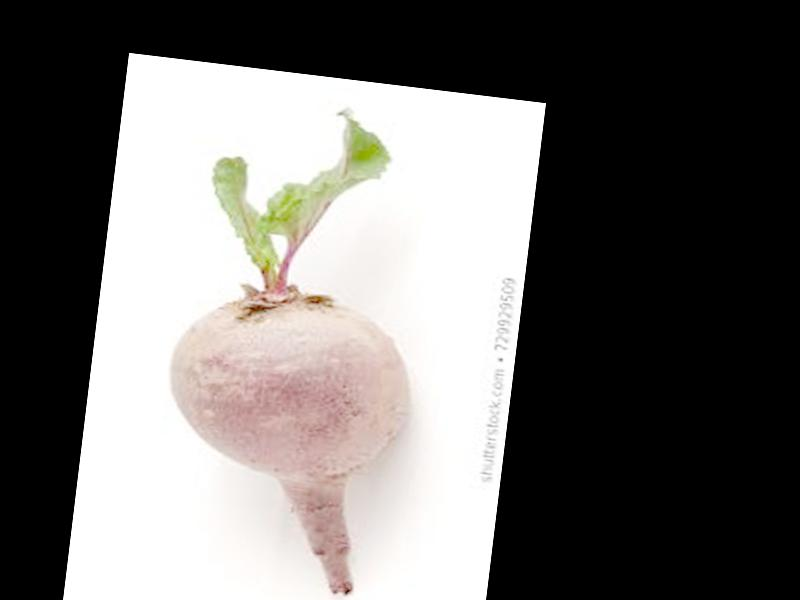Beet: (147, 90, 441, 597)
